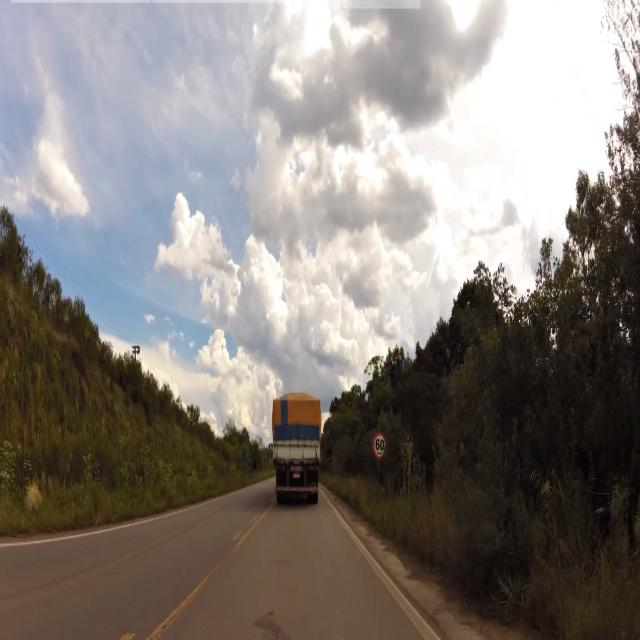R-19: (373, 430, 388, 462)
